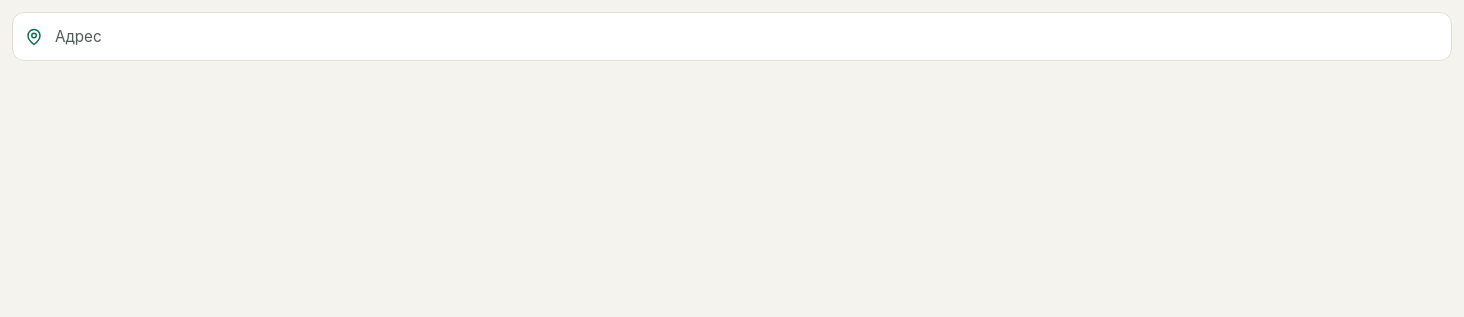
Test case: AddressInput accessibility › selects a suggestion with ArrowDown and Enter
Type "Ала" into the dropdown labelled "Адрес" at (732, 36), box [12, 12, 1452, 61]
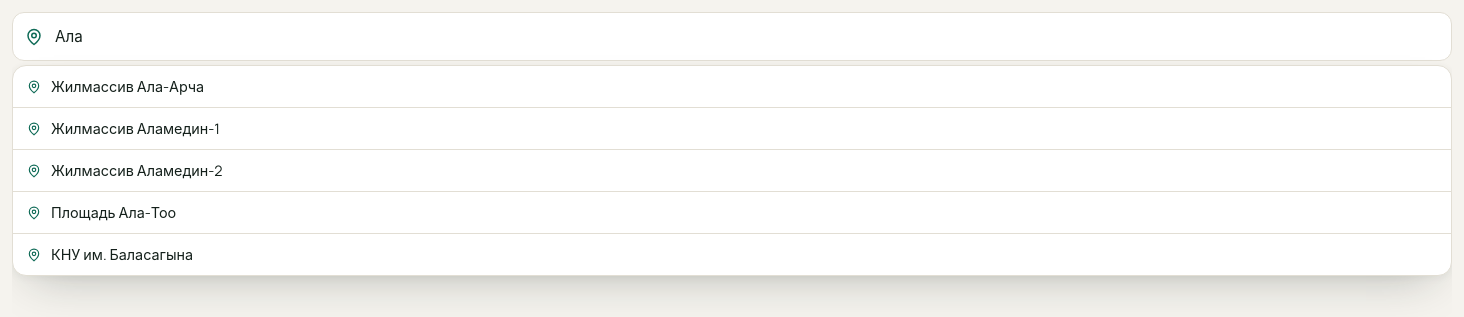
Now the dropdown named "Адрес" is expanded
Now the list is shown
Press ArrowDown in the dropdown named "Адрес", box [12, 12, 1452, 61]
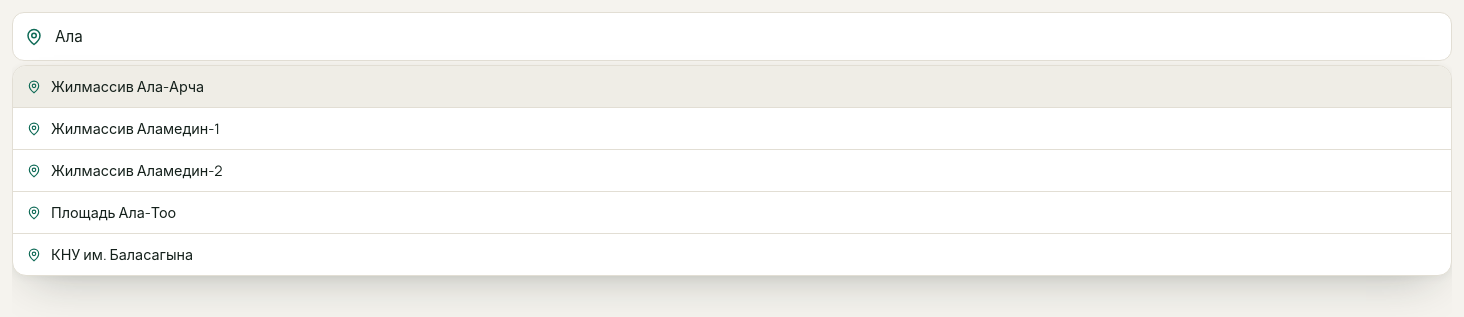
Now the option "Жилмассив Ала-Арча" is selected, box [13, 66, 1451, 108]
Press Enter in the dropdown named "Адрес", box [12, 12, 1452, 61]
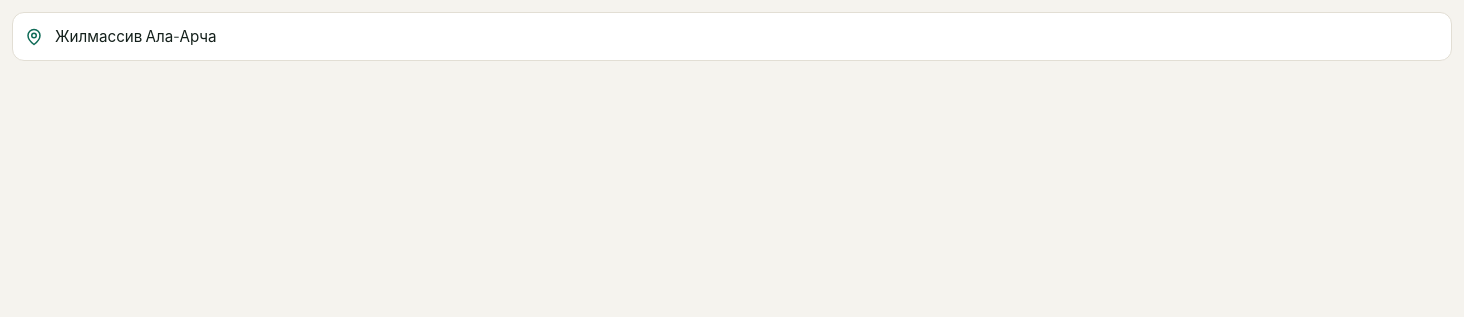
Now the dropdown named "Адрес" holds "Жилмассив Ала-Арча", box [12, 12, 1452, 61]
Now the dropdown named "Адрес" is collapsed, box [12, 12, 1452, 61]
Now the list is gone
